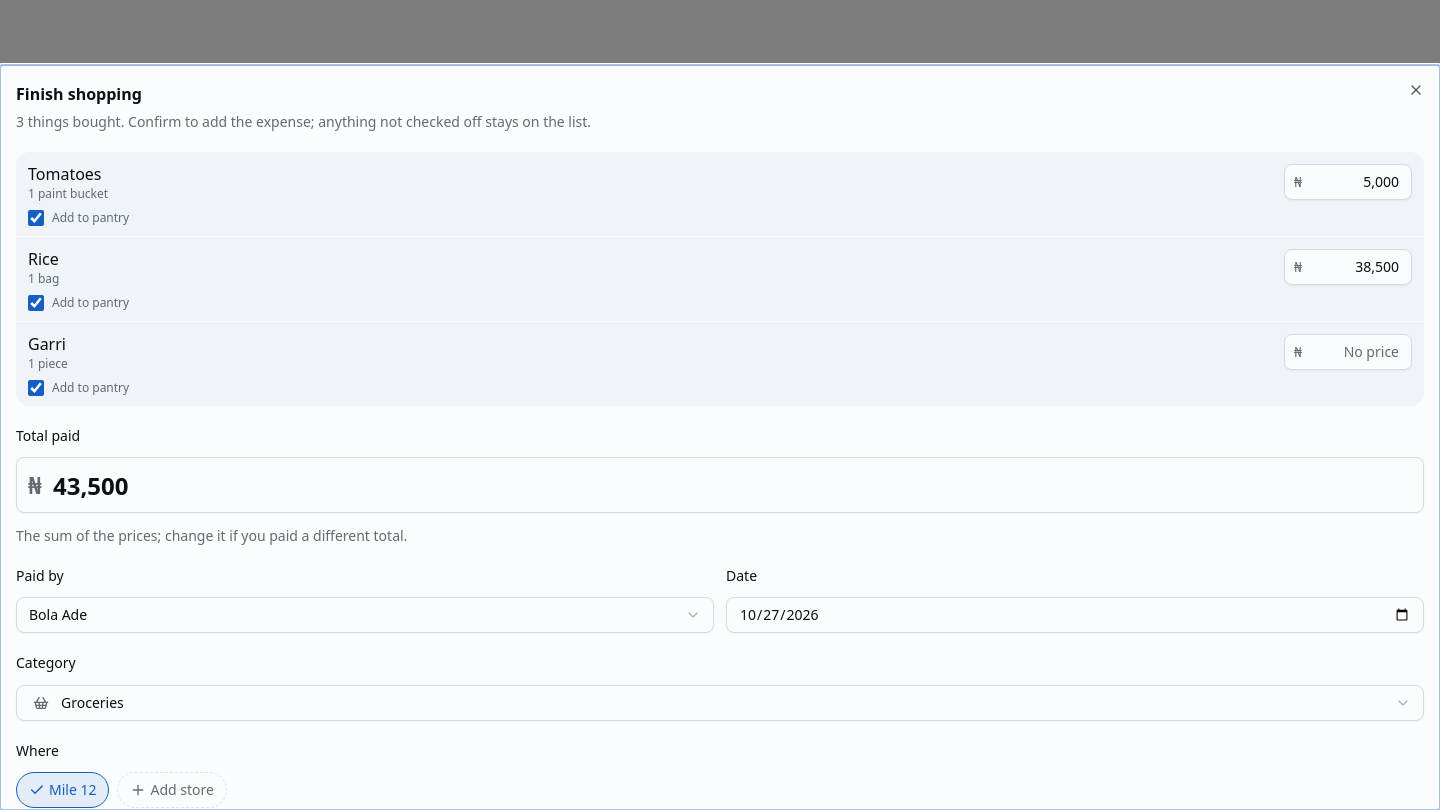
Test: FinishShoppingSheet › lets the total be overridden, and offers the sum back
Replace the text in the field labelled "Total paid" with "42000": (720, 485) [16, 457, 1424, 513]
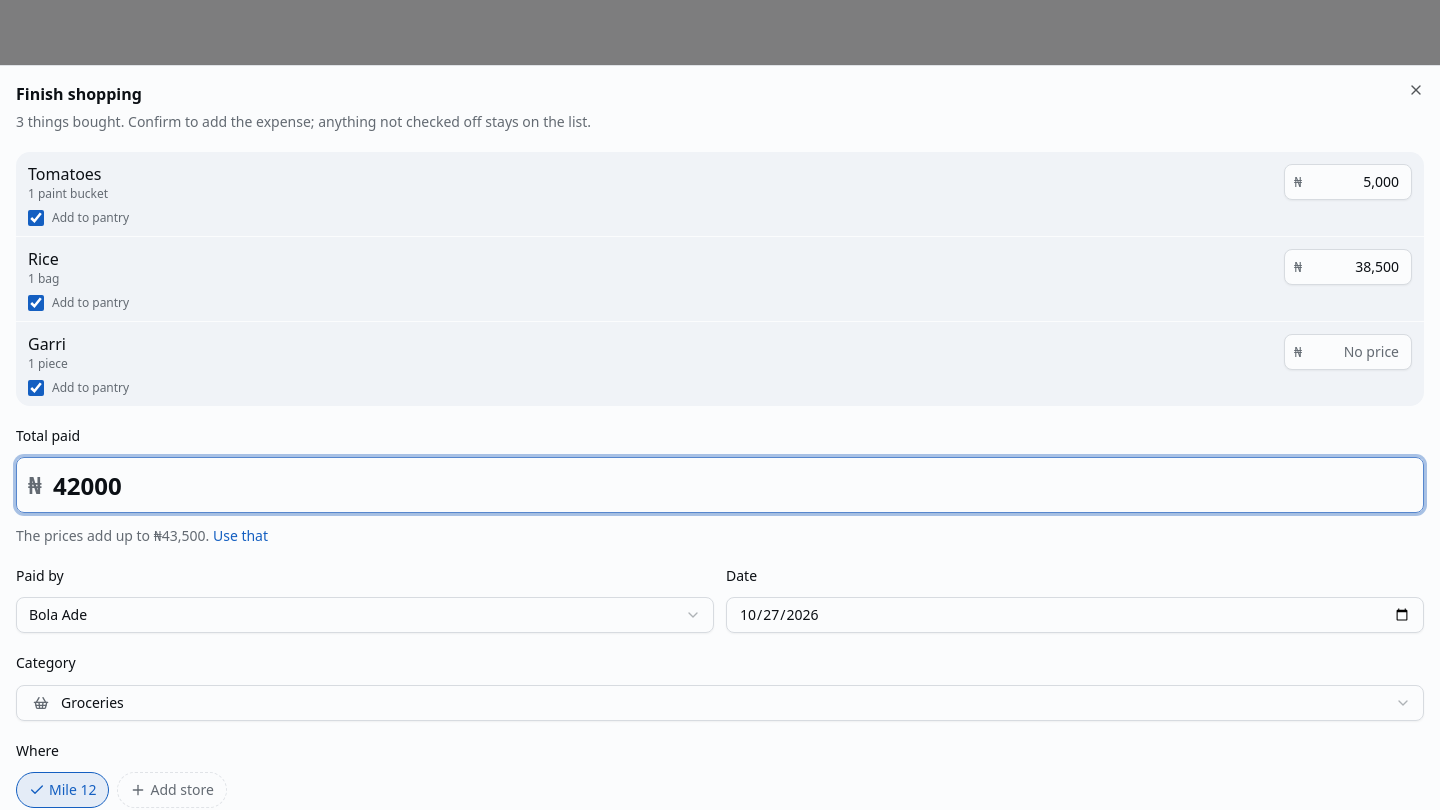
Expected: the text "The prices add up to ₦43,500. Use that" is shown, [16, 525, 268, 546]
Click the button "Use that": (240, 536) [213, 525, 268, 546]
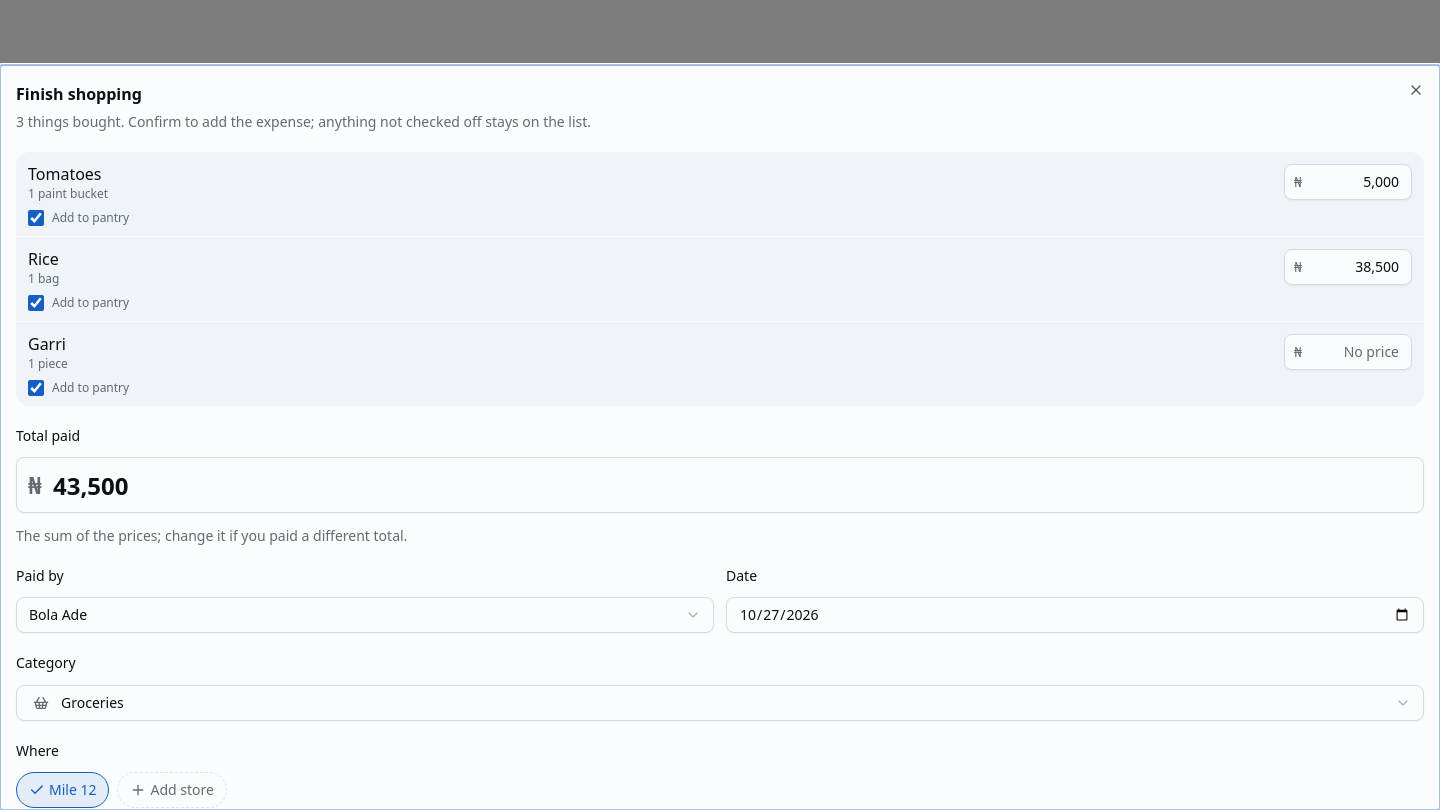
Expected: the field labelled "Total paid" holds "43,500", [16, 457, 1424, 513]
